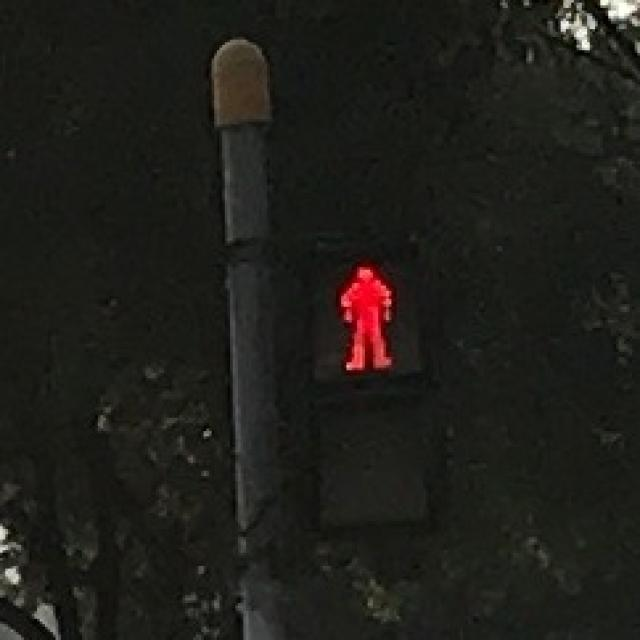red-crossing: (307, 244, 426, 384)
